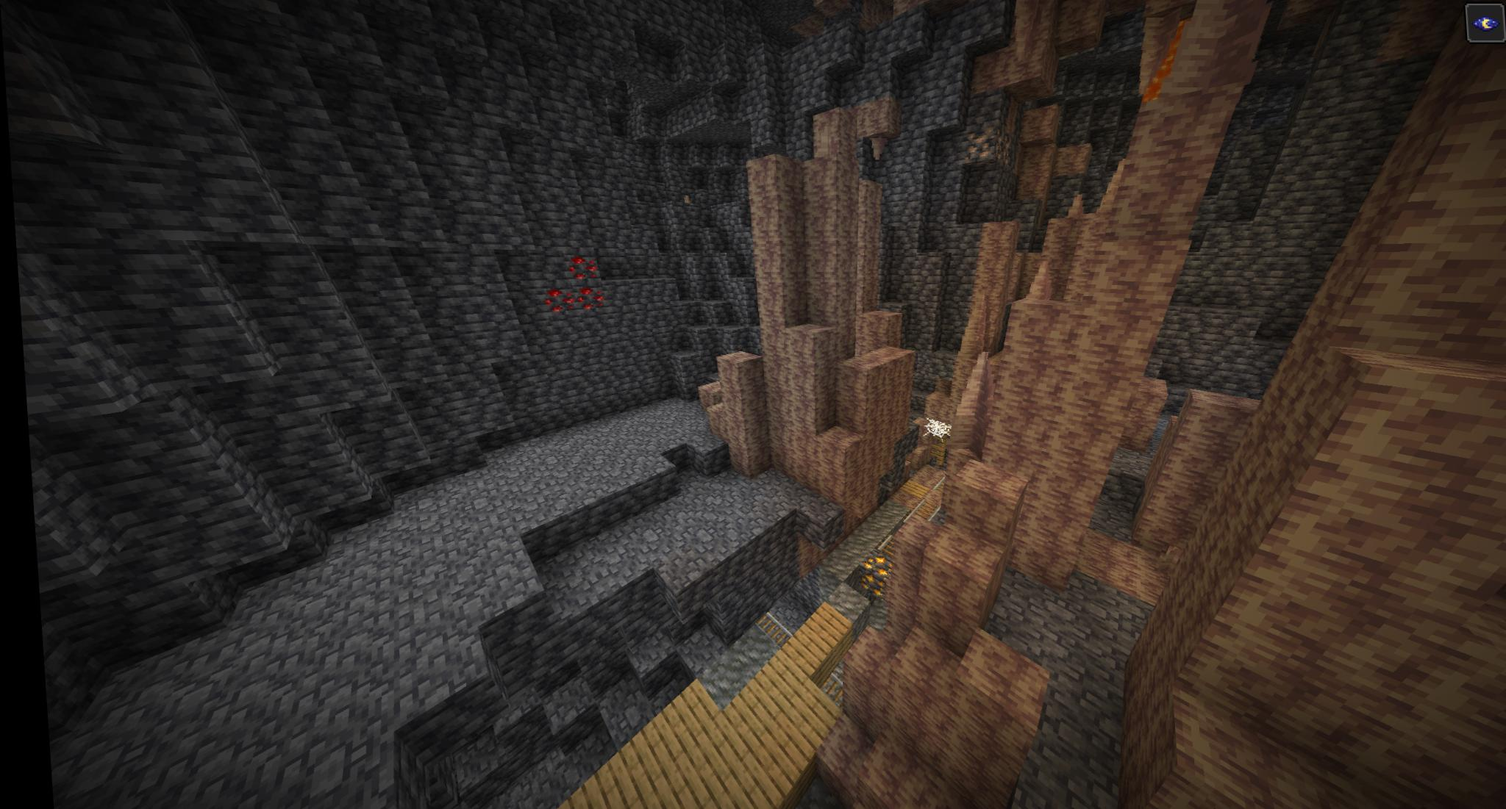gold ore: (855, 553, 888, 596)
iron ore: (961, 123, 1016, 163)
redstone ore: (535, 281, 572, 314), (573, 282, 603, 316), (560, 253, 594, 282)
